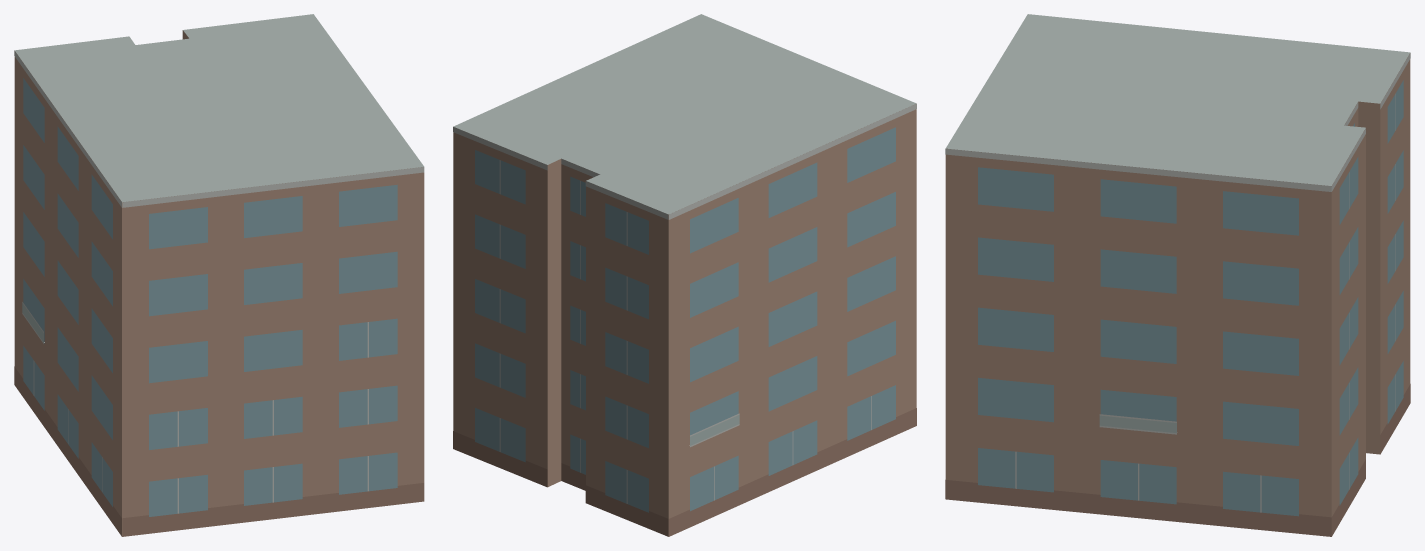
Rendered from survey-upis-32738349.glb.
3 views of the same model, side by side, from view 1: azimuth 30°, elevation 25°; view 2: azimuth 150°, elevation 25°; view 3: azimuth 270°, elevation 25° (orthographic). The views are drawn at different scales.
Parts seen in each view (by area): view 1: survey-upis-32738349.tmp; view 2: survey-upis-32738349.tmp; view 3: survey-upis-32738349.tmp.
Part boxes in pixels (x1=…): survey-upis-32738349.tmp: x1=14, y1=14, x2=424, y2=536; survey-upis-32738349.tmp: x1=453, y1=14, x2=916, y2=536; survey-upis-32738349.tmp: x1=945, y1=14, x2=1410, y2=536.
Size of the model in its own units: 15.06 by 14.3 by 17.19.
